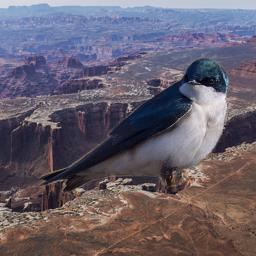Swallow: (37, 57, 230, 192)
